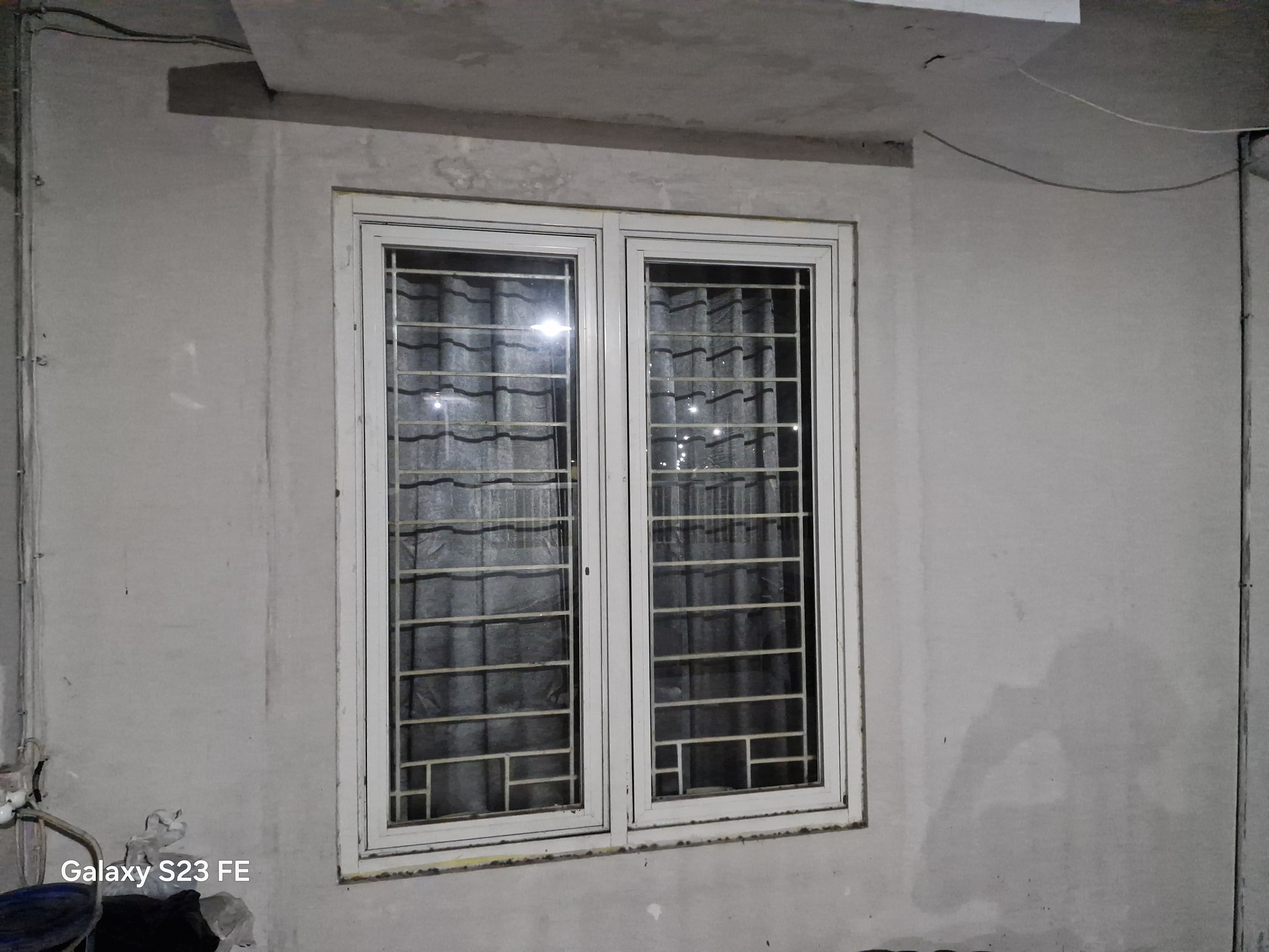wall-other-merged: (0, 0, 1268, 951)
window-other: (335, 194, 864, 881)
